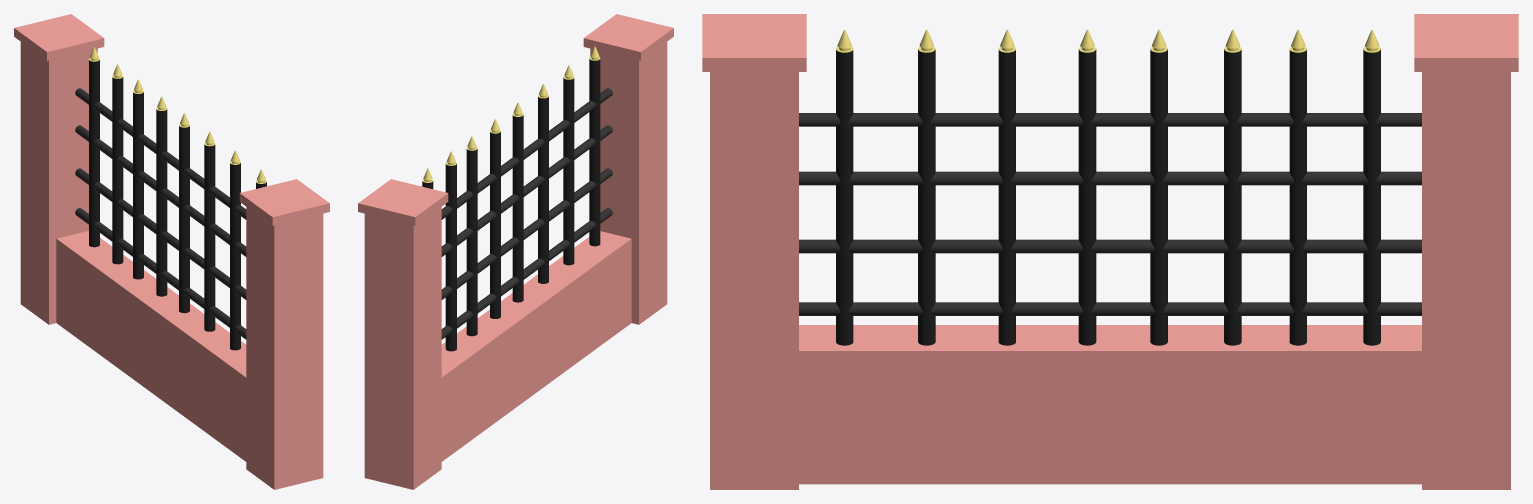
Rendered from gradeBlend.fbx.
3 views of the same model, side by side, from view 1: azimuth 30°, elevation 25°; view 2: azimuth 150°, elevation 25°; view 3: azimuth 270°, elevation 25° (orthographic). The views are drawn at different scales.
Parts seen in each view (by area): view 1: Cube, Cylinder; view 2: Cube, Cylinder; view 3: Cube, Cylinder.
Boxes of the visible parts, <box> form: Cube: <box>14,14,329,489</box>; Cylinder: <box>75,47,266,350</box>; Cube: <box>358,14,673,489</box>; Cylinder: <box>422,46,612,351</box>; Cube: <box>702,14,1518,489</box>; Cylinder: <box>799,29,1421,345</box>.
Bounding box in the file's own units: 113 × 533 × 886.
